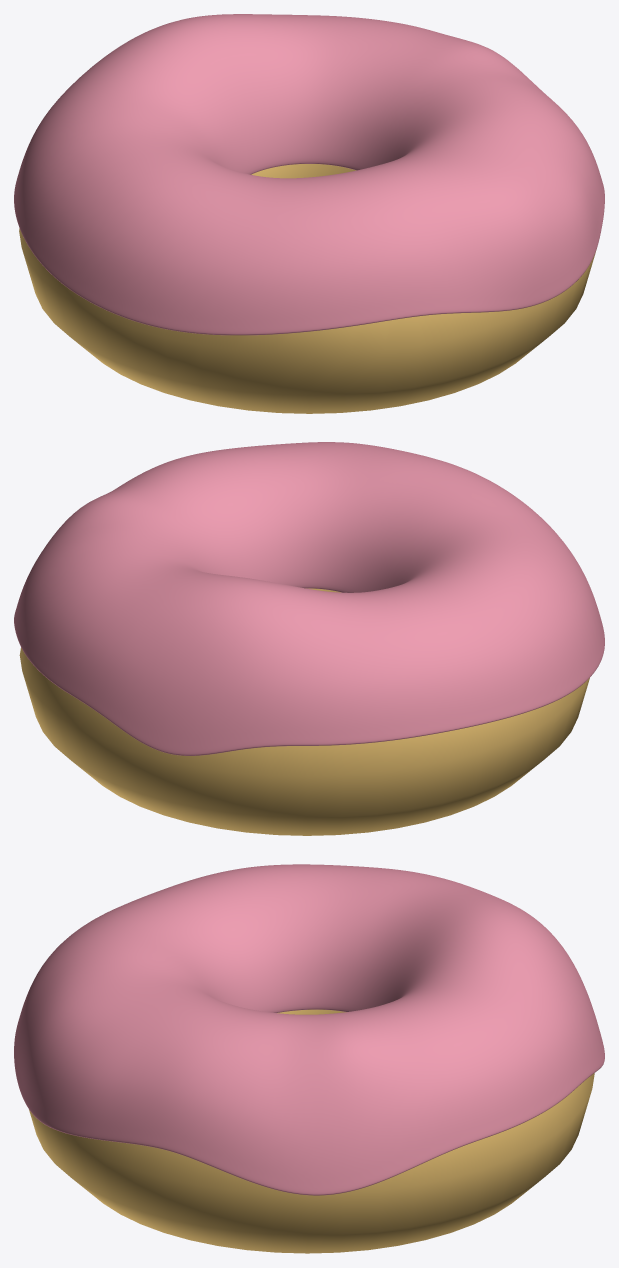
The model's file is low-poly0donut.gltf.
3 renders of one model, top to bottom at view 1: azimuth 30°, elevation 25°; view 2: azimuth 150°, elevation 25°; view 3: azimuth 270°, elevation 25°, orthographic.
Visible parts, largest first — view 1: icing, donut; view 2: icing, donut; view 3: icing, donut.
Boxes of the visible parts, bbox=[...] form: icing: bbox=[14, 14, 604, 335]; donut: bbox=[19, 164, 595, 413]; icing: bbox=[14, 442, 604, 755]; donut: bbox=[19, 588, 589, 835]; icing: bbox=[14, 864, 604, 1195]; donut: bbox=[29, 1009, 594, 1253].
Bounding box in the file's own units: 0.1618 × 0.0707 × 0.1605.
